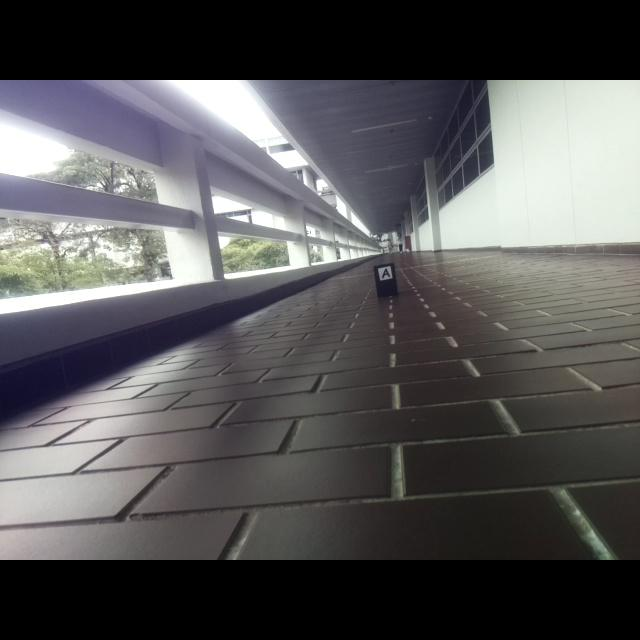A: (382, 268, 391, 278)
